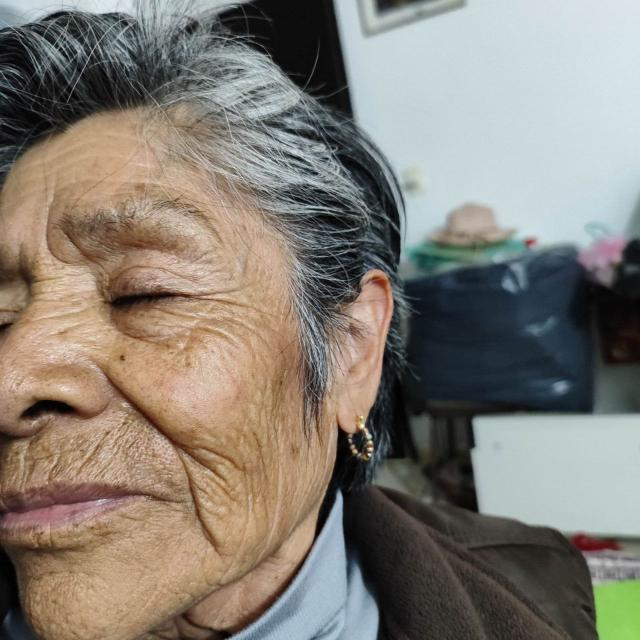ear: (324, 270, 392, 432)
